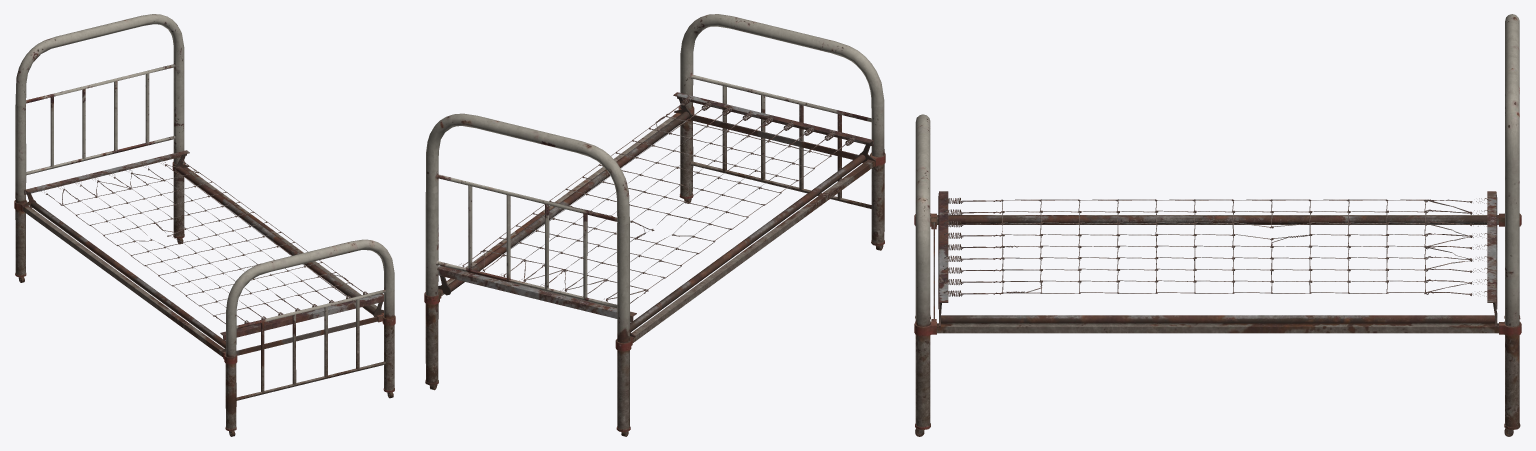
File: bed-iron-frame.glb
3 views of the same model, side by side, from view 1: azimuth 30°, elevation 25°; view 2: azimuth 150°, elevation 25°; view 3: azimuth 270°, elevation 25° (orthographic). The views are drawn at different scales.
Parts seen in each view (by area): view 1: bed-iron-frame; view 2: bed-iron-frame; view 3: bed-iron-frame.
Boxes of the visible parts, box(x1,y1,x2,y2) form: bed-iron-frame: box(14, 14, 395, 436); bed-iron-frame: box(424, 14, 885, 436); bed-iron-frame: box(914, 14, 1521, 436).
Size of the model in its own units: 0.9046 by 1.2 by 2.
1 material, 1 textured.
